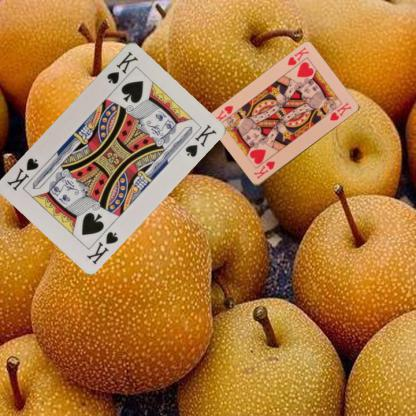Kh: (285, 45, 311, 67), (252, 158, 276, 180)
Ks: (104, 48, 140, 85), (84, 228, 119, 265)
